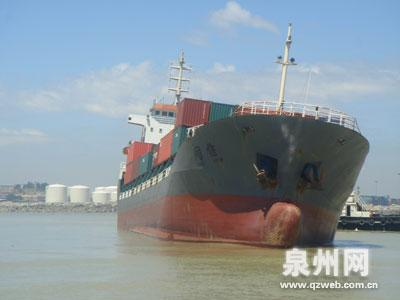Cargoship: (113, 19, 370, 251)
